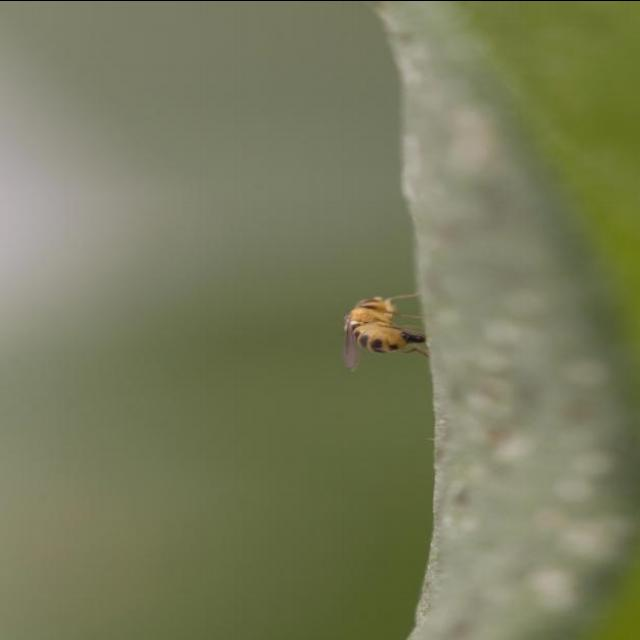Serpentine leafminer: (335, 285, 431, 379)
